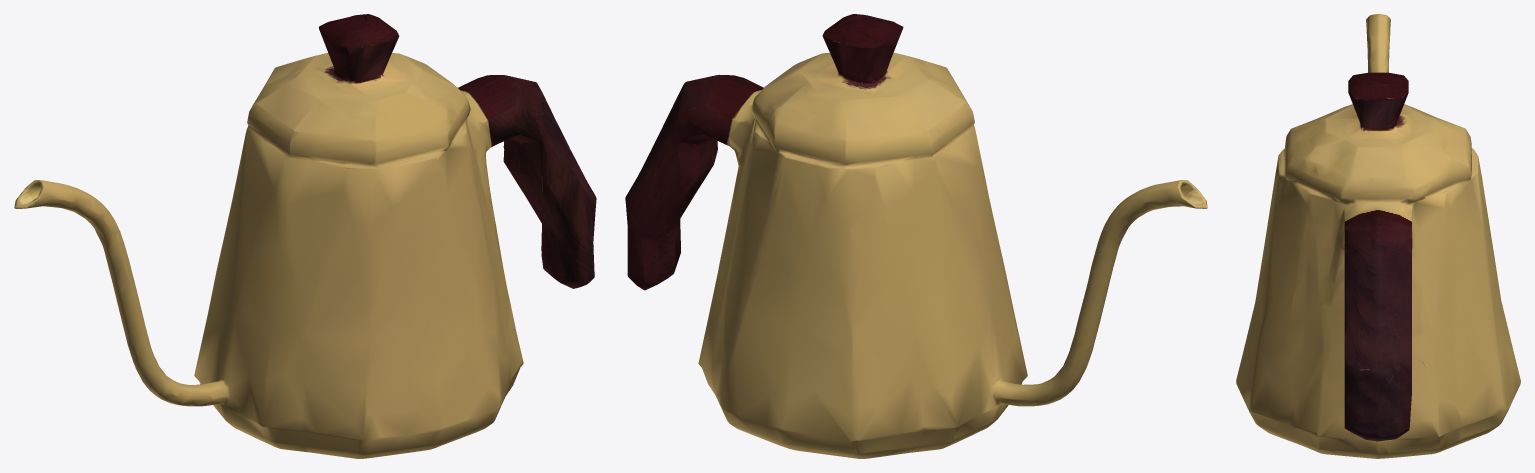
The model's file is pour_over.glb.
3 renders of one model, left to right at view 1: azimuth 30°, elevation 25°; view 2: azimuth 150°, elevation 25°; view 3: azimuth 270°, elevation 25°, orthographic. The views are drawn at different scales.
Parts seen in each view (by area): view 1: Mesh1.0; view 2: Mesh1.0; view 3: Mesh1.0.
Boxes of the visible parts, x1,y1,x2,y2 form: Mesh1.0: [14, 14, 596, 458]; Mesh1.0: [625, 14, 1207, 458]; Mesh1.0: [1236, 14, 1520, 458].
Size of the model in its own units: 1.91 by 1.22 by 0.9364.
Materials: 1 (1 with a texture image).
